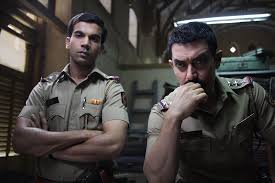Caution: (12, 12, 274, 182)
